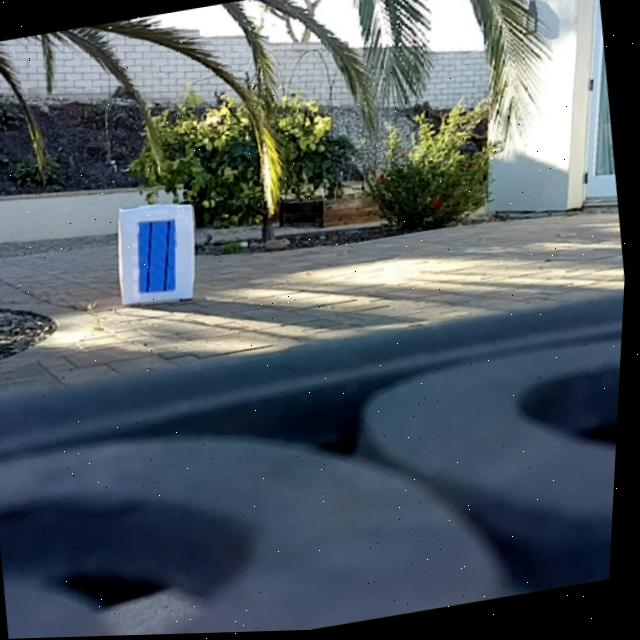led: (135, 217, 186, 298)
